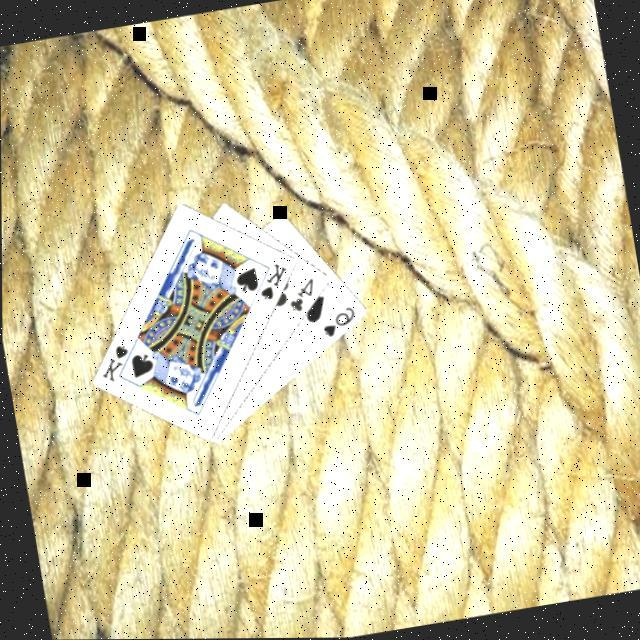4C: (284, 276, 322, 318)
6S: (318, 304, 362, 343)
KS: (94, 342, 144, 388), (253, 260, 296, 306)
